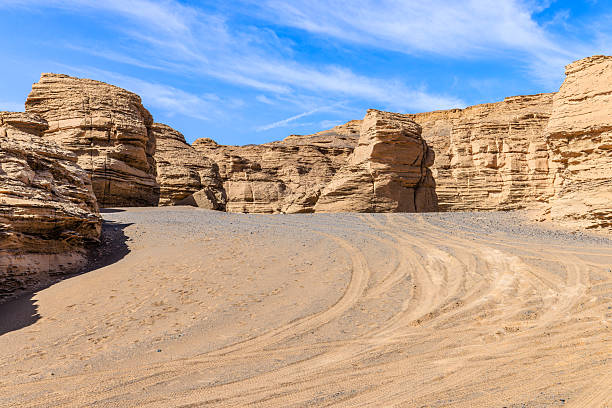vehicle_track: (0, 214, 611, 406)
